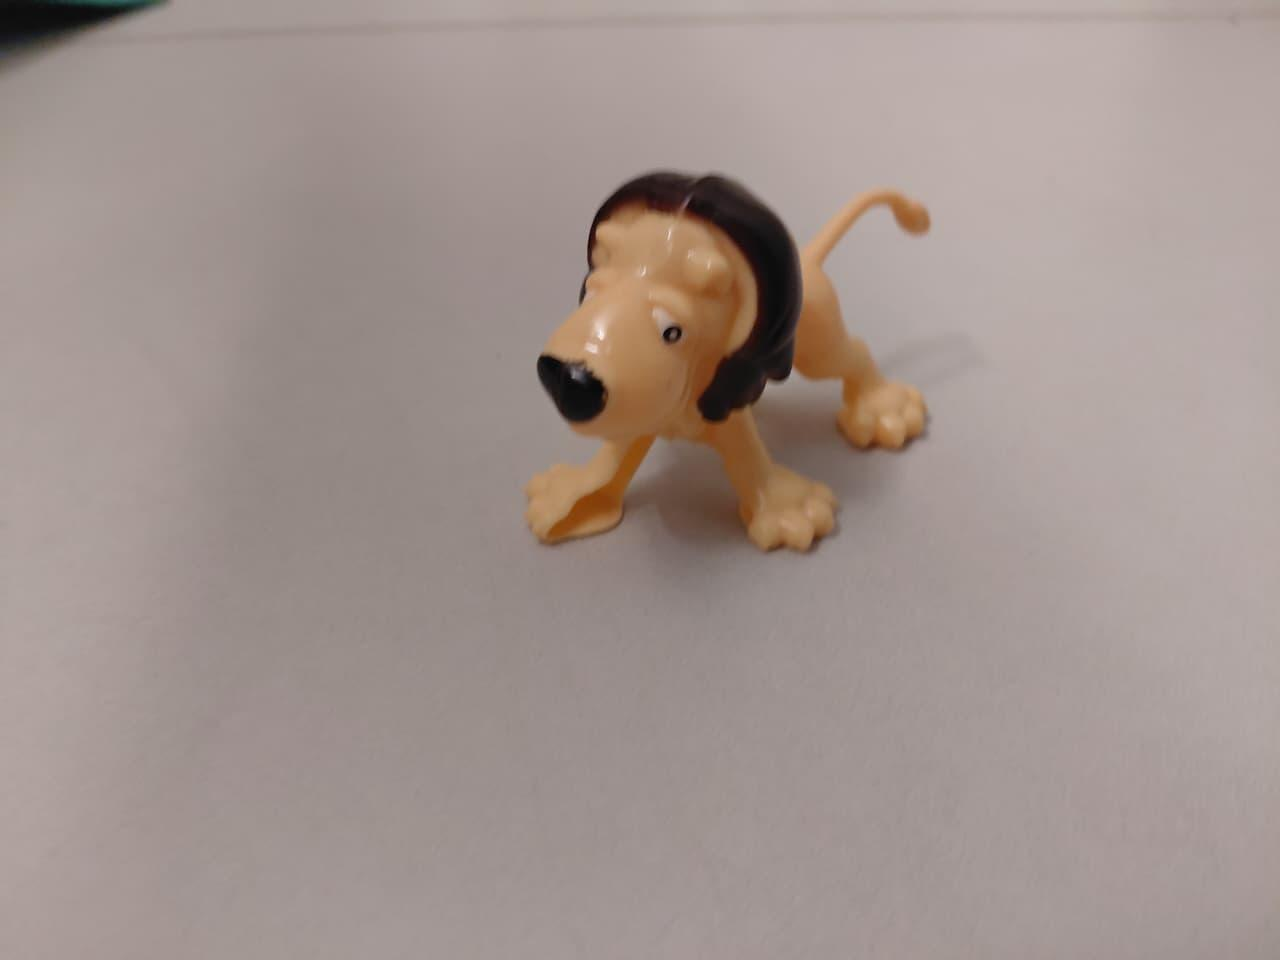lion: (516, 138, 953, 634)
